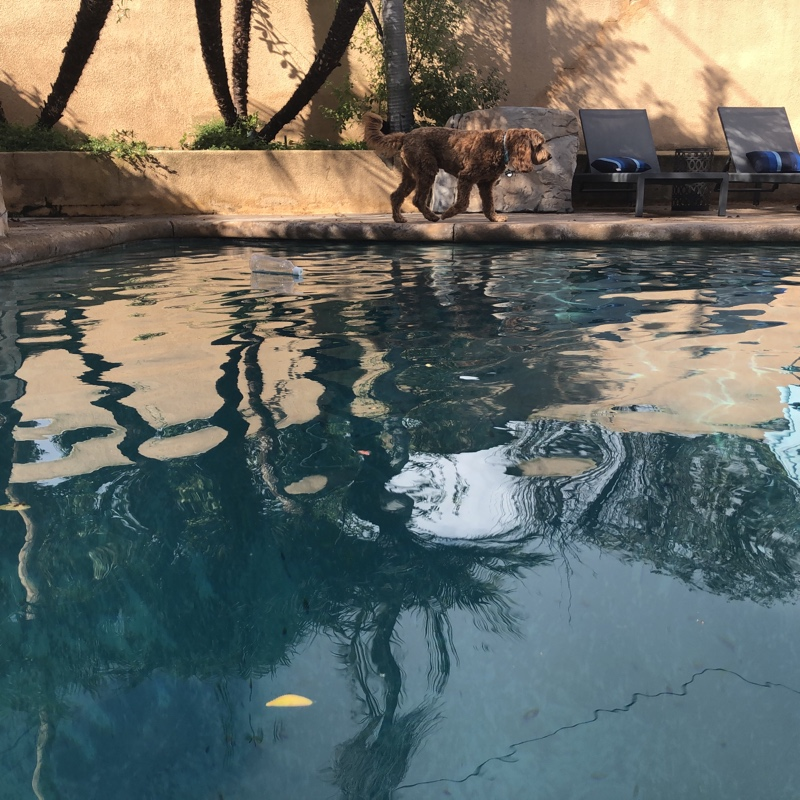Plastic Bottle: (244, 256, 302, 278)
